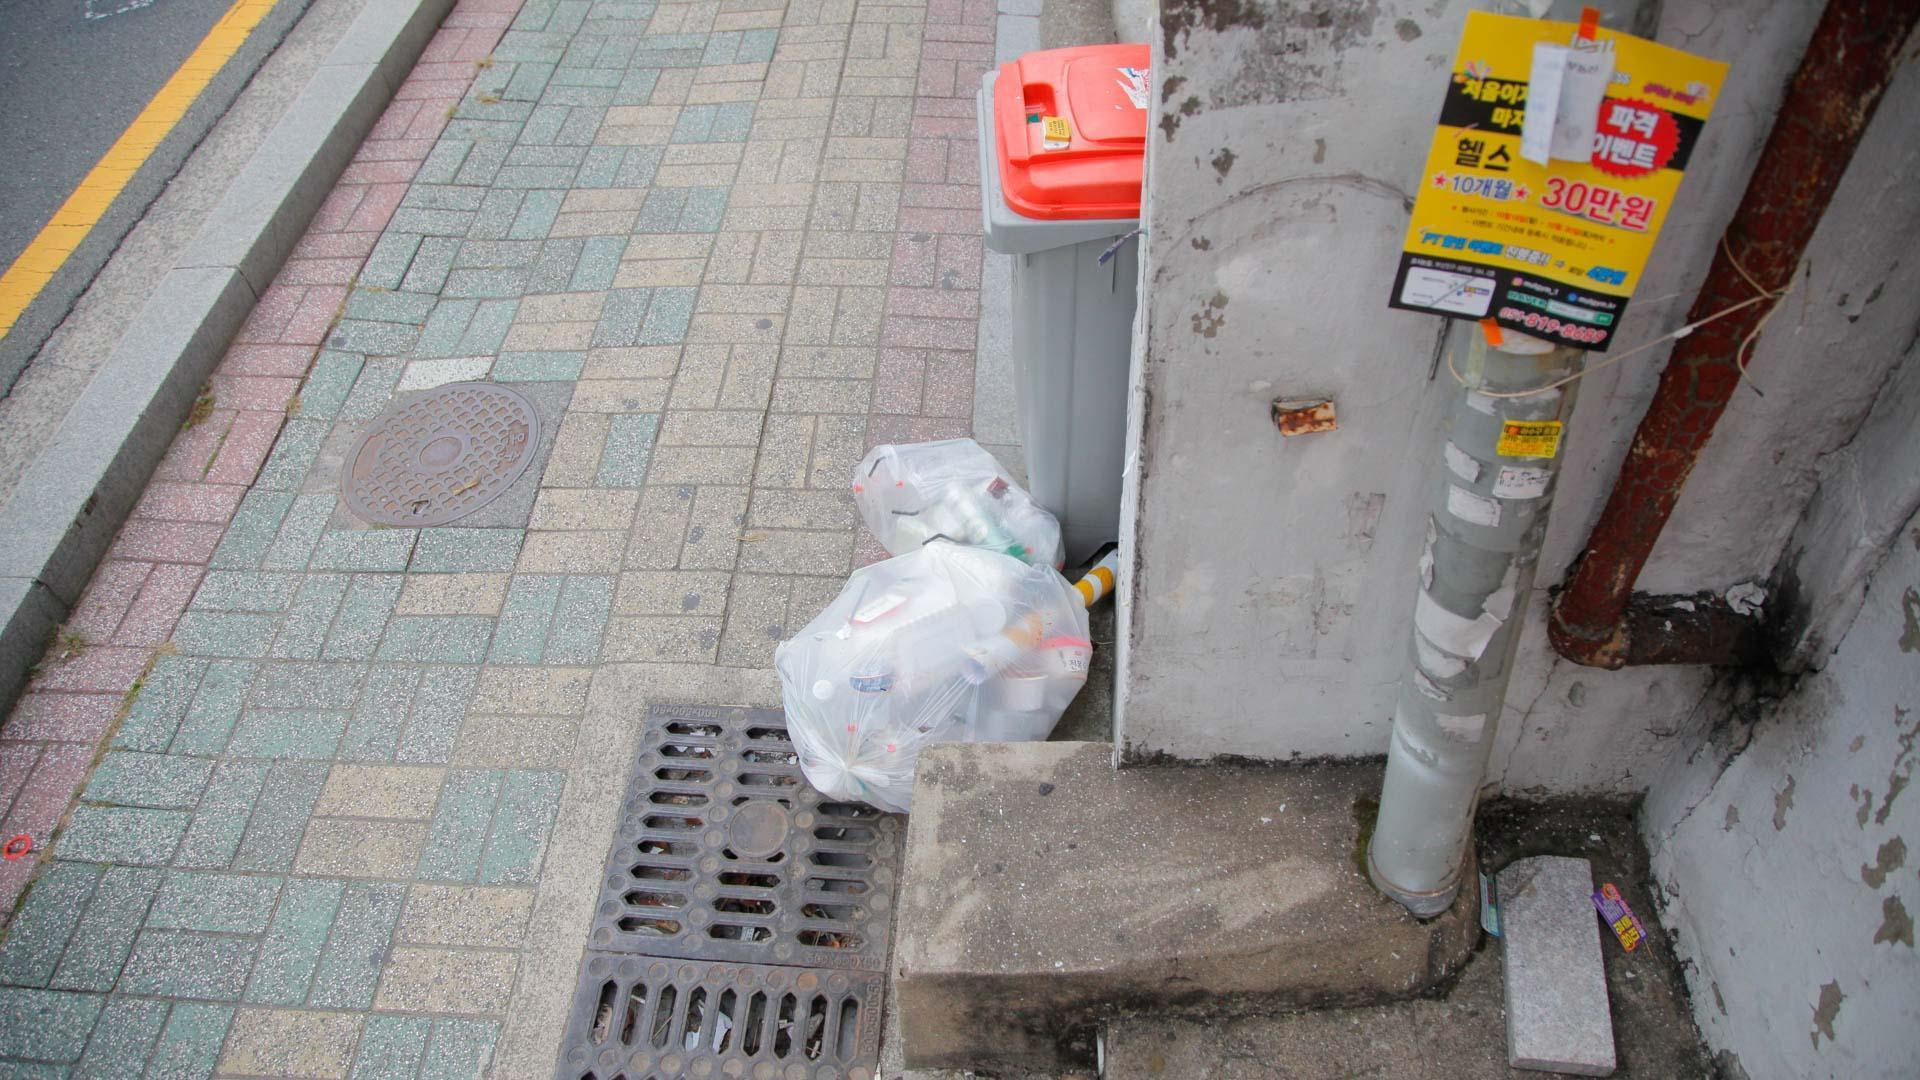white_bag: (754, 531, 1102, 825), (843, 426, 1073, 599)
